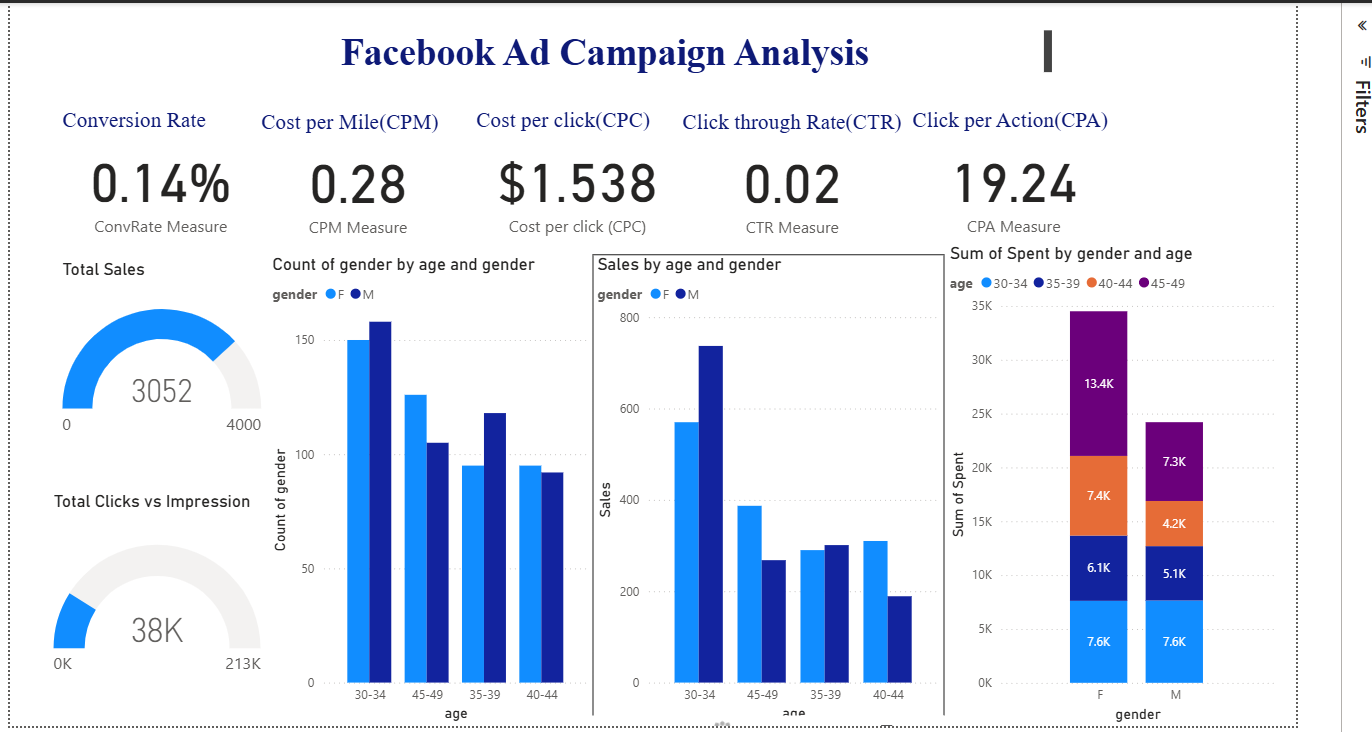

The dashboard page shown, as its layout file describes it:
{"tool":"powerbi","page":{"name":"Page 1","canvas":[1280,720],"ordinal":0},"visuals":[{"type":"card","title":"Cost per click(CPC)","fields":{"Values":["working.CPC Measure"]},"box":[459,105,212,133],"z":0},{"type":"textbox","box":[150,22,891,60],"z":1000},{"type":"card","title":"Conversion Rate","fields":{"Values":["working.ConvRate Measure"]},"box":[47,105,206,133],"z":2000},{"type":"card","title":"Cost per Mile(CPM)","fields":{"Values":["working.CPM Measure"]},"box":[245,106,203,133],"z":3000},{"type":"card","title":"Click through Rate(CTR)","fields":{"Values":["working.CTR Measure"]},"box":[664,106,229,133],"z":4000},{"type":"card","title":"Click per Action(CPA)","fields":{"Values":["working.CPA Measure"]},"box":[893,104,212,134],"z":5000},{"type":"gauge","fields":{"Y":["Sum(working.Total_Conversion)"]},"box":[47,255,208,211],"z":6000},{"type":"gauge","fields":{"Y":["Sum(working.Clicks)"]},"box":[39,485,216,224],"z":7000},{"type":"clusteredColumnChart","fields":{"Category":["working.age"],"Series":["working.gender"],"Y":["CountNonNull(working.gender)"]},"box":[255.7,250,324.3,470],"z":8000},{"type":"clusteredColumnChart","fields":{"Category":["working.age"],"Series":["working.gender"],"Y":["Sum(working.Total_Conversion)"]},"box":[580,250,350,470],"z":9000},{"type":"qnaVisual","box":[565,709,302,11],"z":10000},{"type":"qnaVisual","box":[878.6,708.6,51.4,11.4],"z":11000},{"type":"qnaVisual","box":[878.6,708.6,280,11.4],"z":12000},{"type":"columnChart","fields":{"Category":["working.gender"],"Series":["working.age"],"Y":["Sum(working.Spent)"]},"box":[930,238.6,332.9,481.4],"z":13000}]}

Visuals, with their boxes on the page's 1280x720 design canvas (x1, y1, x2, y2). These are canvas units, not pixel positions in the 1372x732 screenshot, which may show the page scaled, cropped or inside an application window:
"Cost per click(CPC)" card: detection(459, 105, 671, 238)
textbox: detection(150, 22, 1041, 82)
"Conversion Rate" card: detection(47, 105, 253, 238)
"Cost per Mile(CPM)" card: detection(245, 106, 448, 239)
"Click through Rate(CTR)" card: detection(664, 106, 893, 239)
"Click per Action(CPA)" card: detection(893, 104, 1105, 238)
gauge - Sum(working.Total_Conversion): detection(47, 255, 255, 466)
gauge - Sum(working.Clicks): detection(39, 485, 255, 709)
clusteredColumnChart - working.age x working.gender: detection(256, 250, 580, 720)
clusteredColumnChart - working.age x working.gender: detection(580, 250, 930, 720)
qnaVisual: detection(565, 709, 867, 720)
qnaVisual: detection(879, 709, 930, 720)
qnaVisual: detection(879, 709, 1159, 720)
columnChart - working.gender x working.age: detection(930, 239, 1263, 720)
